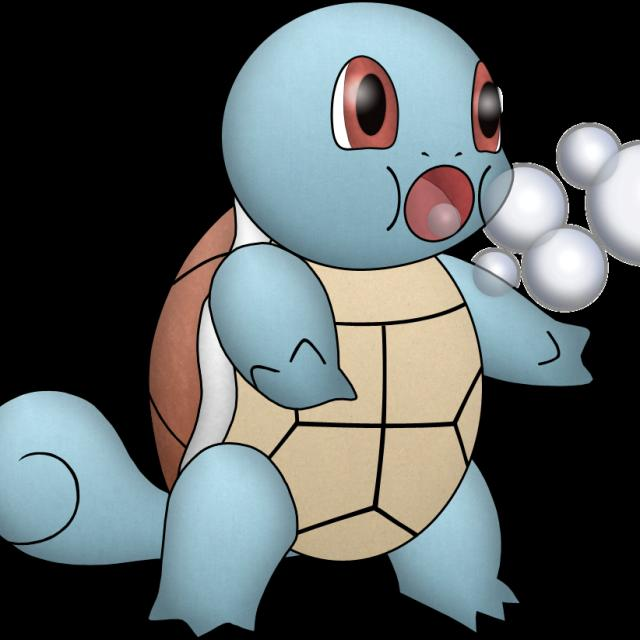Squirtle: (152, 3, 521, 640)
